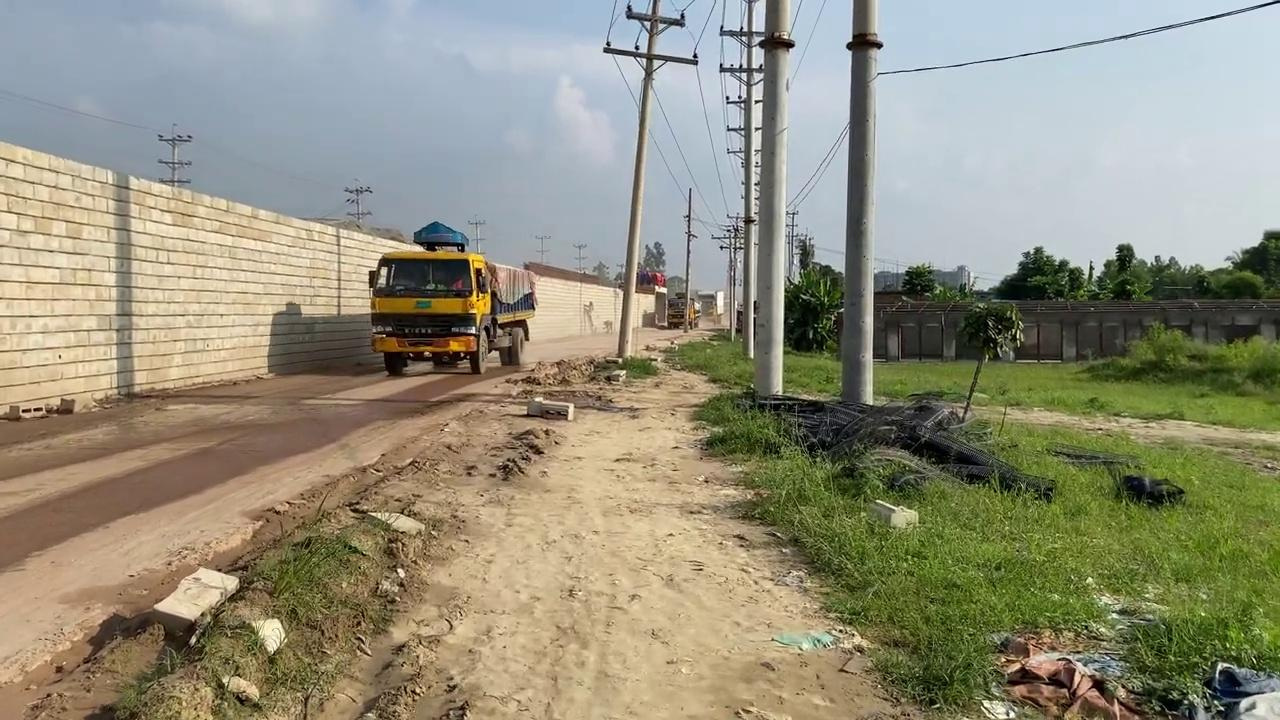Dog: (602, 320, 612, 334)
Fence: (834, 297, 1279, 363)
Obstacle: (526, 396, 575, 421)
Pole: (603, 0, 698, 358), (839, 1, 882, 405), (752, 0, 793, 397), (615, 1, 660, 358), (740, 1, 758, 358)
Rickshaw: (305, 332, 918, 719)
Tree: (368, 220, 537, 375), (654, 273, 701, 330)
Upstairs: (0, 138, 424, 417)
